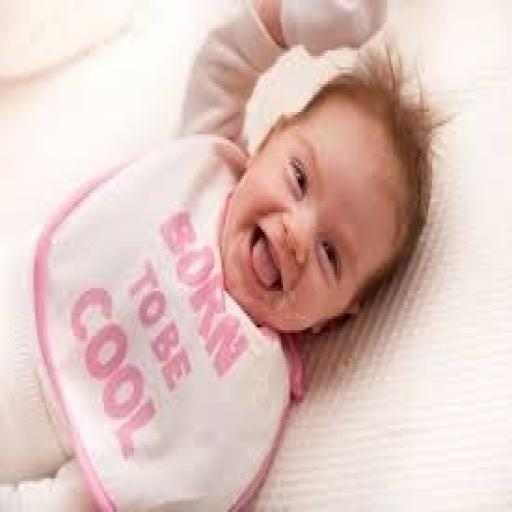laughing: (22, 3, 449, 509)
